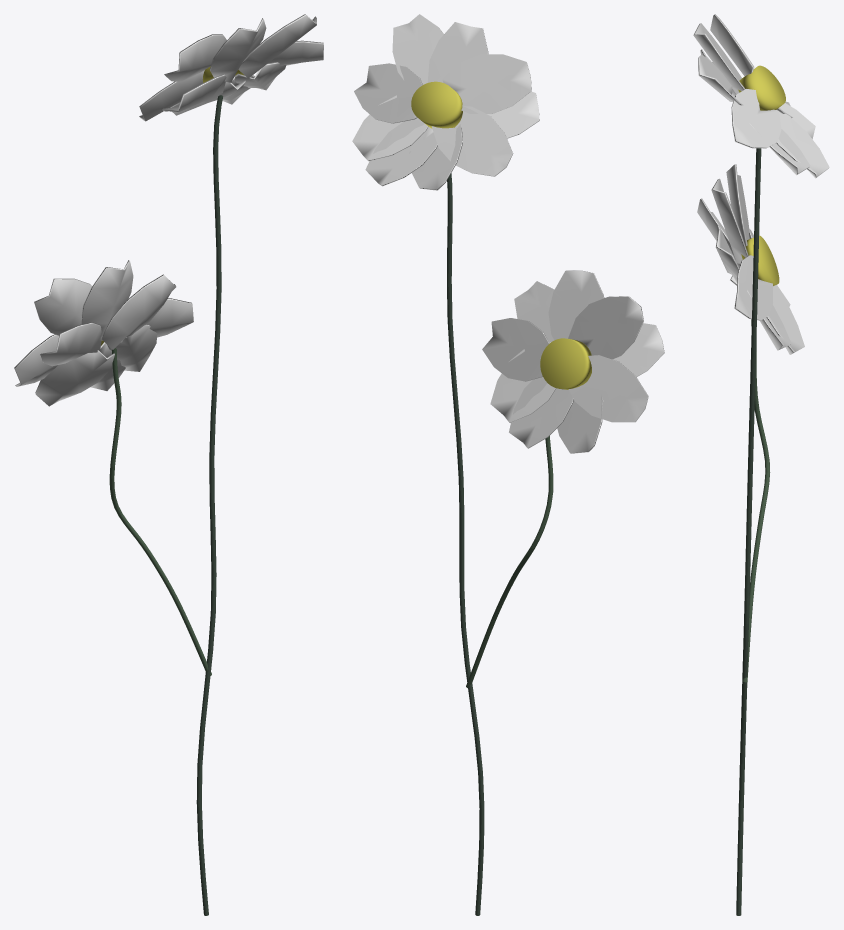
The model's file is flower.dae.
The picture shows the model from 3 angles, left to right: view 1: azimuth 30°, elevation 25°; view 2: azimuth 150°, elevation 25°; view 3: azimuth 270°, elevation 25°; orthographic projection. The views are drawn at different scales.
Visible parts, largest first — view 1: Vert-007, Cube-009, Cube-015, Cube-017, Cube-016, Vert-008, Cube-002, Cube-001, Cube-010, Cube, Cube-013, Cube-006 (+5 smaller); view 2: Vert-007, Cube, Cube-011, Cube-017, Cube-006, Cube-014, Cube-003, Cube-005, Cube-012, Cube-016, Cube-002, Cylinder-001 (+10 smaller); view 3: Vert-007, Cube-003, Cube-014, Vert-008, Cube-005, Cylinder, Cube-016, Cube-001, Cube-012, Cube, Cube-017, Cylinder-001 (+6 smaller).
Part boxes in pixels (box(x1,y1,x2,y2)): Vert-007: box(196, 95, 222, 915); Cube-009: box(35, 350, 114, 406); Cube-015: box(101, 274, 176, 349); Cube-017: box(34, 278, 92, 335); Cube-016: box(81, 260, 133, 340); Vert-008: box(109, 348, 211, 675); Cube-002: box(238, 14, 316, 78); Cube-001: box(209, 18, 266, 82); Cube-010: box(40, 322, 101, 366); Cube: box(164, 34, 226, 81); Cube-013: box(107, 324, 157, 371); Cube-006: box(139, 70, 204, 121); Vert-007: box(447, 173, 484, 915); Cube: box(442, 54, 531, 114); Cube-011: box(568, 355, 648, 422); Cube-017: box(568, 296, 643, 359); Cube-006: box(431, 106, 513, 176); Cube-014: box(482, 318, 549, 381); Cube-003: box(354, 63, 422, 123); Cube-005: box(365, 117, 437, 186); Cube-012: box(509, 377, 573, 448); Cube-016: box(548, 270, 604, 340); Cube-002: box(392, 14, 443, 84); Cylinder-001: box(540, 338, 591, 389); Vert-007: box(736, 148, 761, 915); Cube-003: box(731, 89, 781, 148); Cube-014: box(734, 255, 772, 320); Vert-008: box(742, 319, 770, 682); Cube-005: box(776, 110, 829, 178); Cylinder: box(738, 65, 785, 110); Cube-016: box(711, 178, 748, 263); Cube-001: box(693, 23, 745, 94); Cube-012: box(766, 285, 804, 354); Cube: box(710, 14, 754, 76); Cube-017: box(726, 164, 749, 246); Cylinder-001: box(741, 235, 779, 285).
Bounding box in the file's own units: 7.49 × 21.15 × 2.9.
